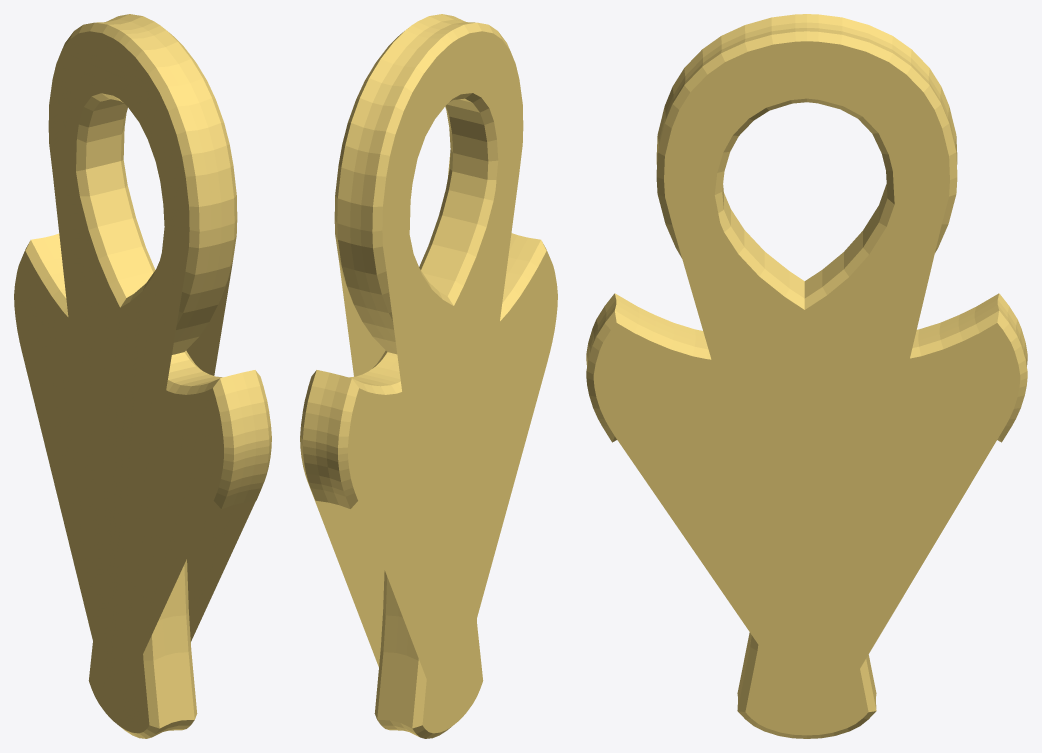
Rendered from Coin.fbx.
3 renders of one model, left to right at view 1: azimuth 30°, elevation 25°; view 2: azimuth 150°, elevation 25°; view 3: azimuth 270°, elevation 25°, orthographic.
Parts seen in each view (by area): view 1: Ankh-Gold; view 2: Ankh-Gold; view 3: Ankh-Gold.
Part boxes in pixels (x1,y1,x2,y2): Ankh-Gold: [14, 14, 271, 738]; Ankh-Gold: [300, 14, 557, 738]; Ankh-Gold: [586, 14, 1027, 738].
Bounding box in the file's own units: 1.44 × 20.14 × 11.38.
